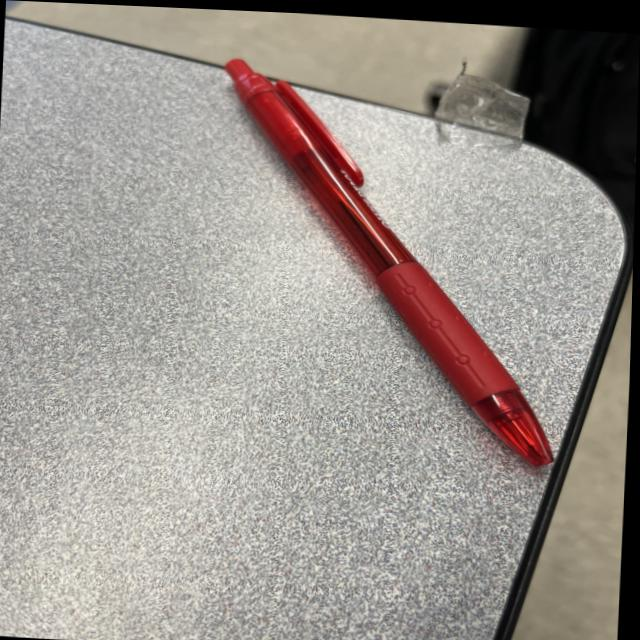pen: (209, 56, 574, 465)
